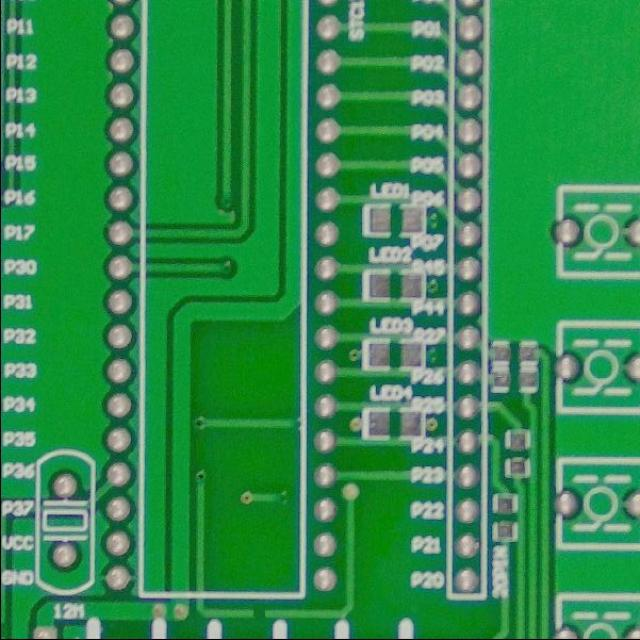Open_Circuit: (242, 603, 276, 622)
